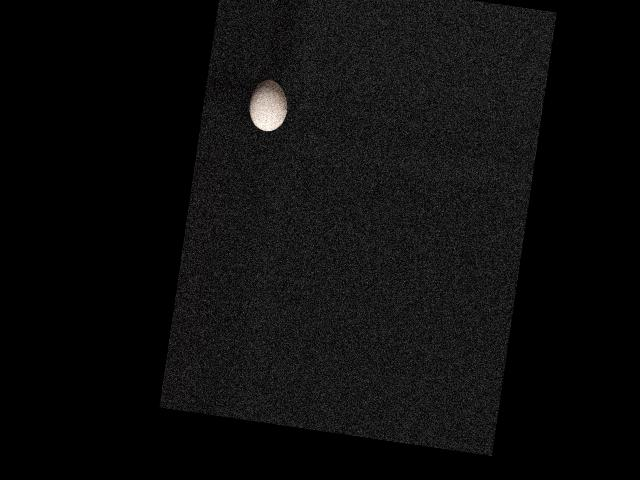egg: (246, 78, 290, 134)
